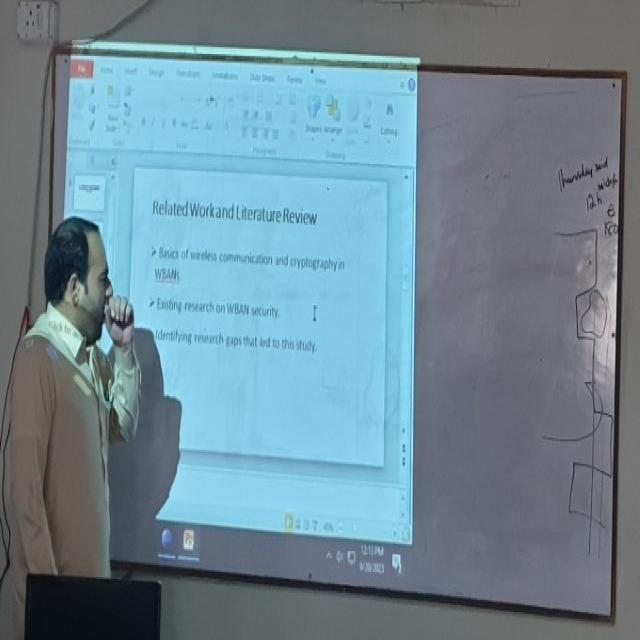Instructor: (24, 226, 126, 614)
Slide: (50, 45, 417, 579)
White-board: (41, 49, 626, 622)
